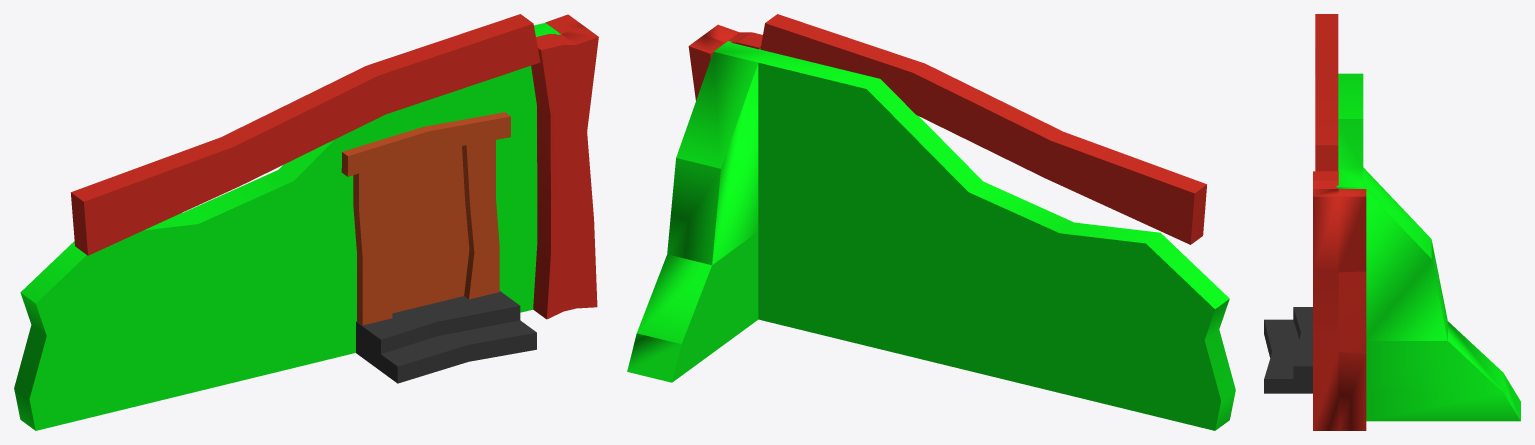
File: MuroEnRuinas.FBX
3 views of the same model, side by side, from view 1: azimuth 30°, elevation 25°; view 2: azimuth 150°, elevation 25°; view 3: azimuth 270°, elevation 25° (orthographic). The views are drawn at different scales.
Parts seen in each view (by area): view 1: Object045; view 2: Object045; view 3: Object045.
Boxes of the visible parts, x1=… form: Object045: x1=14, y1=14, x2=598, y2=430; Object045: x1=627, y1=14, x2=1235, y2=430; Object045: x1=1264, y1=14, x2=1520, y2=430.
Size of the model in its own units: 8.29 by 4.25 by 3.81.
